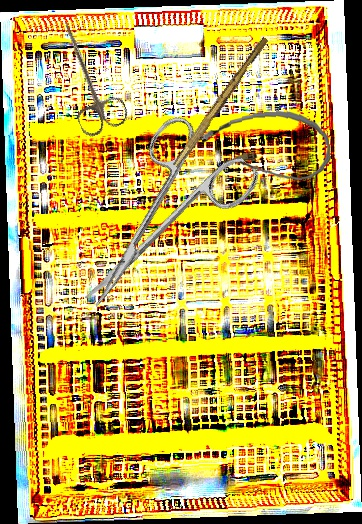Cannula: (199, 107, 333, 188)
Iris Scissors: (45, 105, 264, 336), (40, 13, 132, 140)
Scalpel Handle: (172, 34, 270, 171)
